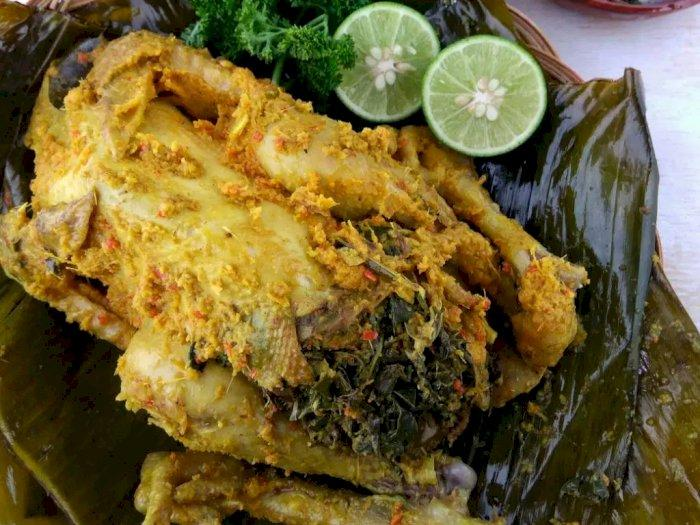ayam_betutu: (1, 31, 587, 487)
